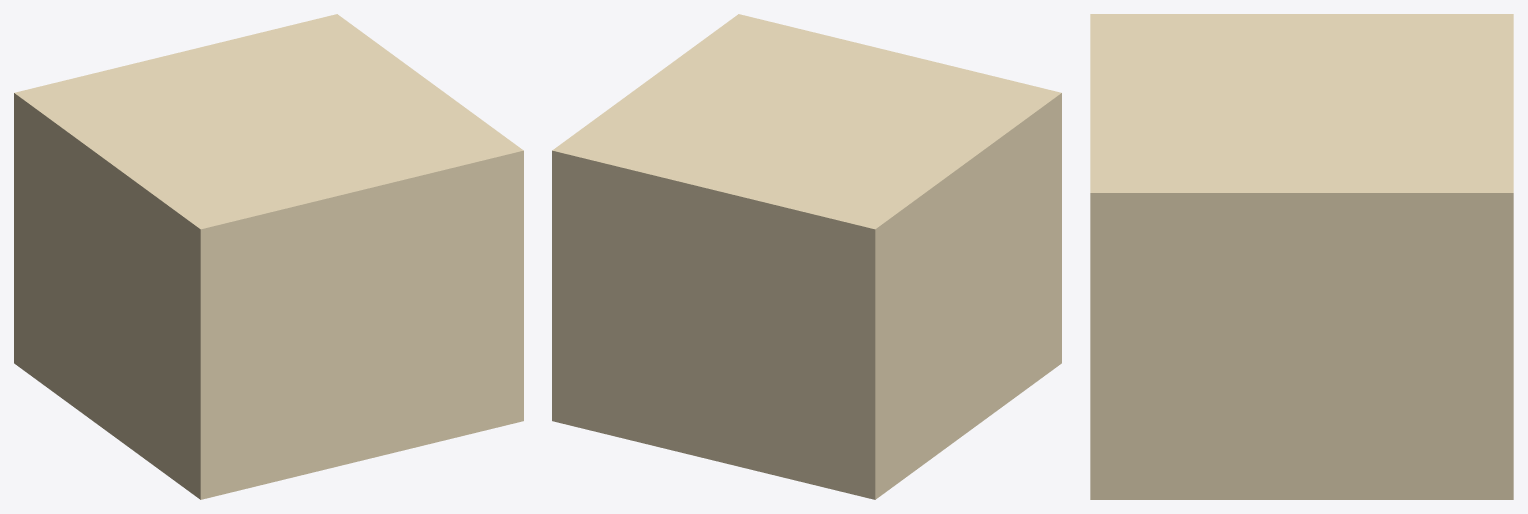
Rendered from salt_lick_block.fbx.
3 renders of one model, left to right at view 1: azimuth 30°, elevation 25°; view 2: azimuth 150°, elevation 25°; view 3: azimuth 270°, elevation 25°, orthographic. The views are drawn at different scales.
Parts seen in each view (by area): view 1: salt_lick_block; view 2: salt_lick_block; view 3: salt_lick_block.
Boxes of the visible parts, <box> form: salt_lick_block: <box>14,14,523,499</box>; salt_lick_block: <box>552,14,1061,499</box>; salt_lick_block: <box>1090,14,1513,499</box>.
Size of the model in its own units: 0.5 by 0.4 by 0.5.
